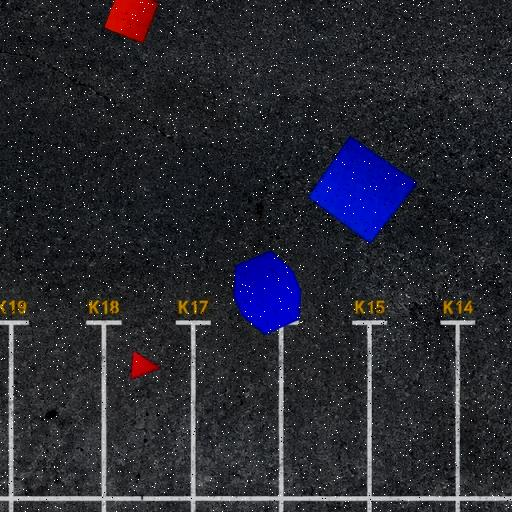BLUE_SQUARE: (308, 135, 418, 244)
RED_SQUARE: (103, 0, 159, 44)
